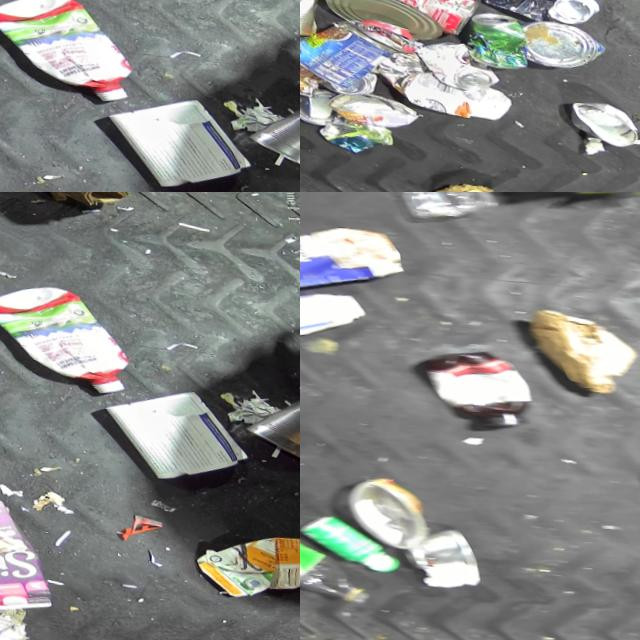can: (300, 10, 390, 88), (406, 33, 492, 87), (236, 380, 300, 451), (515, 12, 600, 65), (316, 0, 434, 38), (239, 88, 300, 159), (351, 0, 472, 34), (316, 86, 411, 126), (456, 4, 520, 63), (561, 92, 635, 142), (474, 0, 594, 21), (309, 65, 370, 93), (300, 83, 329, 124)
non_white_jug: (0, 273, 128, 388), (0, 0, 131, 96), (183, 517, 300, 594), (0, 476, 44, 610)
plastic_bottle: (300, 532, 361, 604)
